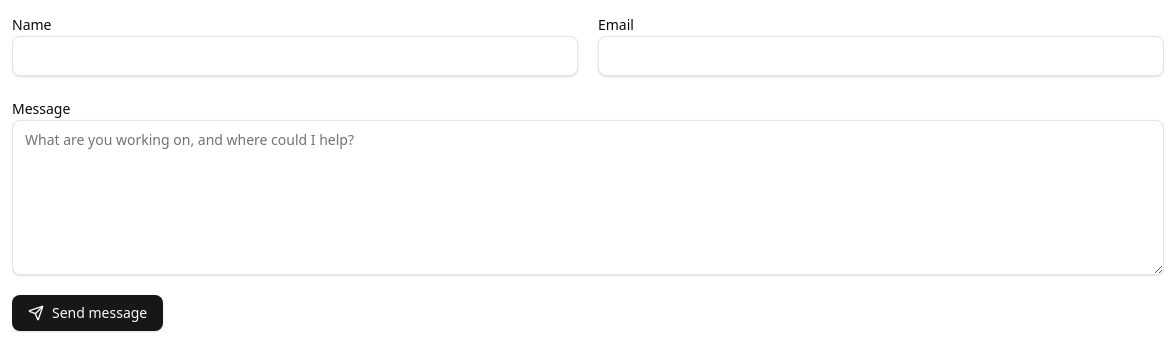
<ContactForm> › explains a 429 and keeps what was typed
Type "Dilnoza" into the field labelled "Name" at (295, 56), box x1=12 y1=36 x2=578 y2=76
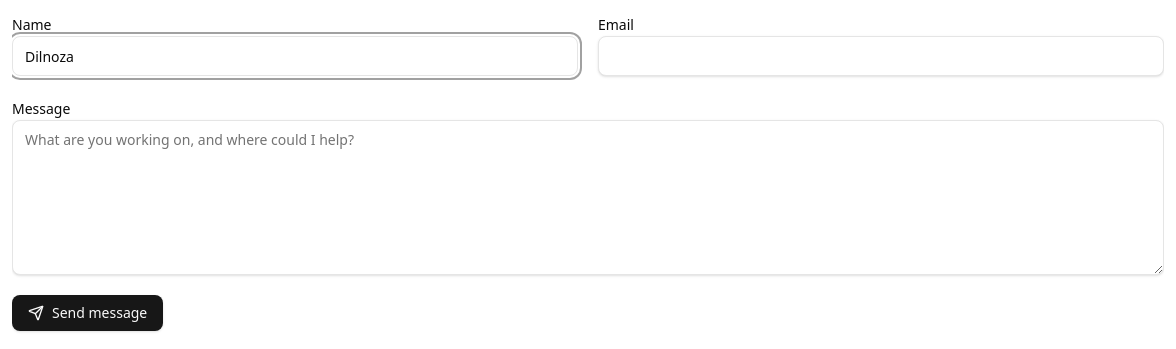
Type "dilnoza@example.com" into the field labelled "Email" at (881, 56), box x1=598 y1=36 x2=1164 y2=76
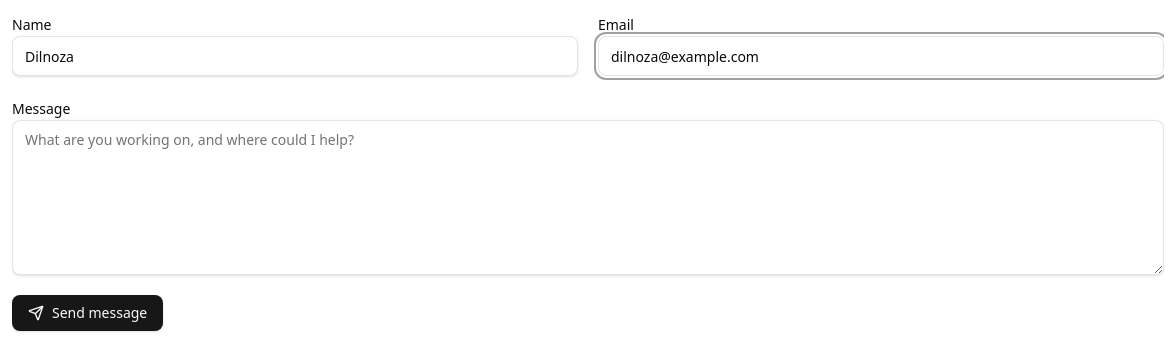
Type "A long enough message." into the text box labelled "Message" at (588, 197), box x1=12 y1=120 x2=1164 y2=274
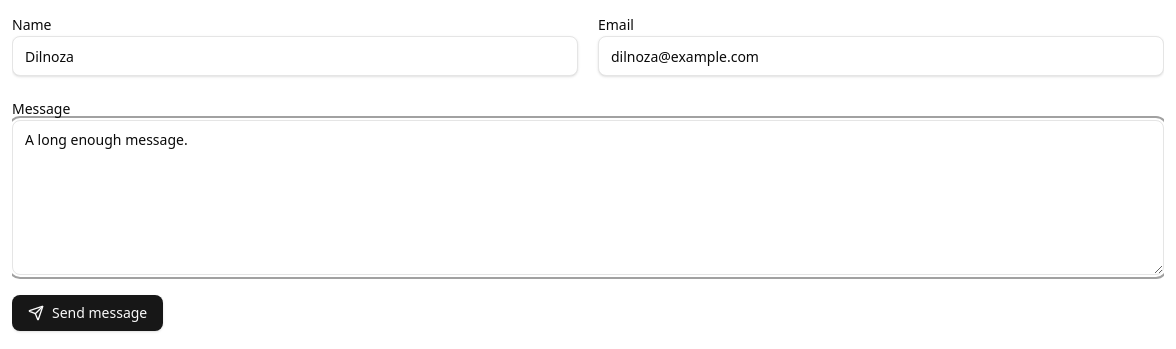
Click the button "Send message" at (88, 312), box x1=12 y1=294 x2=163 y2=330
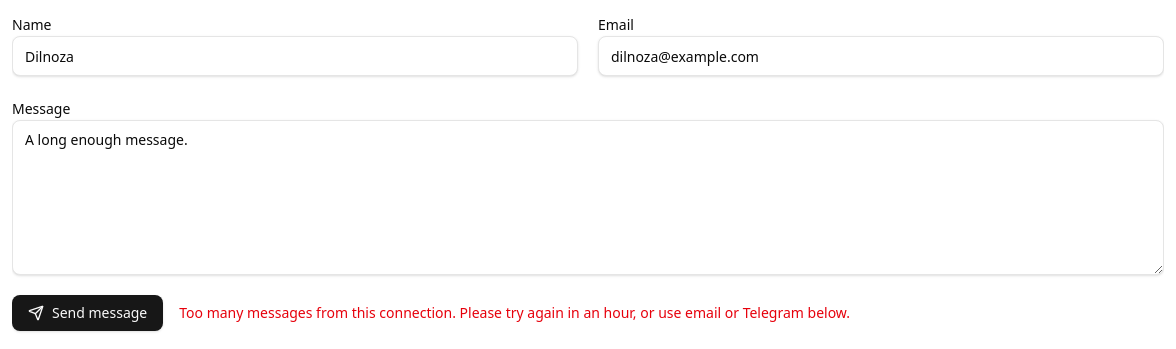
Result: the message shows "Too many messages" at x1=179 y1=302 x2=850 y2=322
